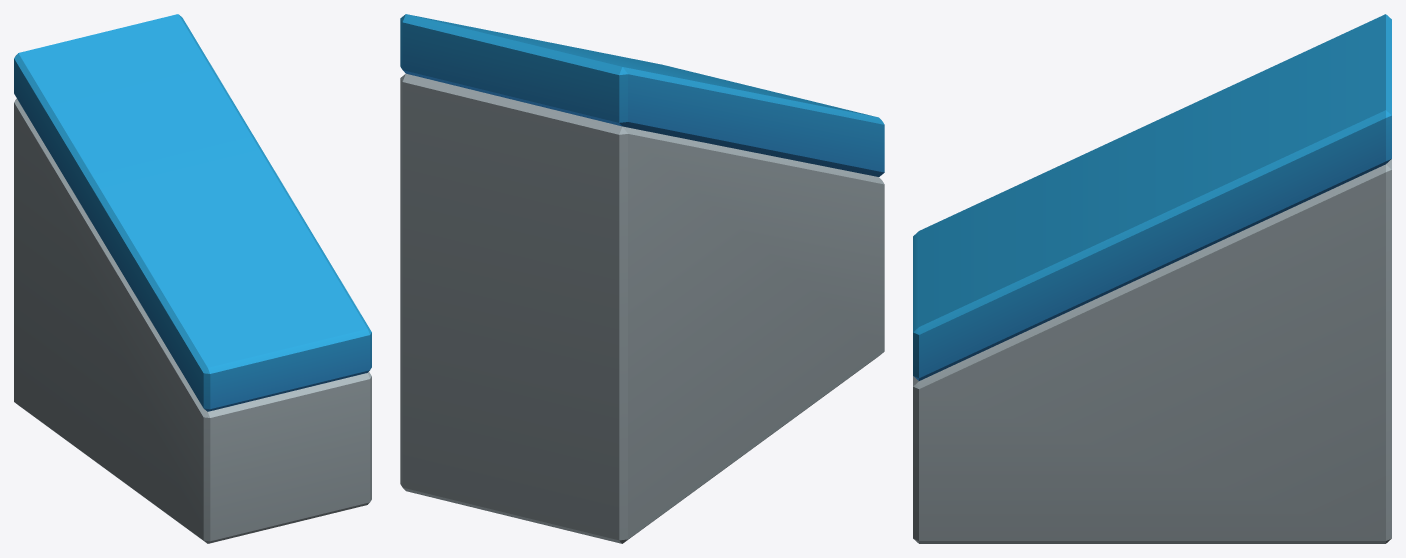
The model's file is platform_slope_2x4x4_blue.glb.
3 views of the same model, side by side, from view 1: azimuth 30°, elevation 25°; view 2: azimuth 150°, elevation 25°; view 3: azimuth 270°, elevation 25° (orthographic). The views are drawn at different scales.
Visible parts, largest first — view 1: platform_slope_2x4x4_blue; view 2: platform_slope_2x4x4_blue; view 3: platform_slope_2x4x4_blue.
Boxes of the visible parts, bbox=[...] form: platform_slope_2x4x4_blue: bbox=[14, 14, 371, 543]; platform_slope_2x4x4_blue: bbox=[400, 14, 884, 543]; platform_slope_2x4x4_blue: bbox=[913, 14, 1391, 543].
Size of the model in its own units: 2 by 4 by 4.
Materials: 1 (1 with a texture image).
